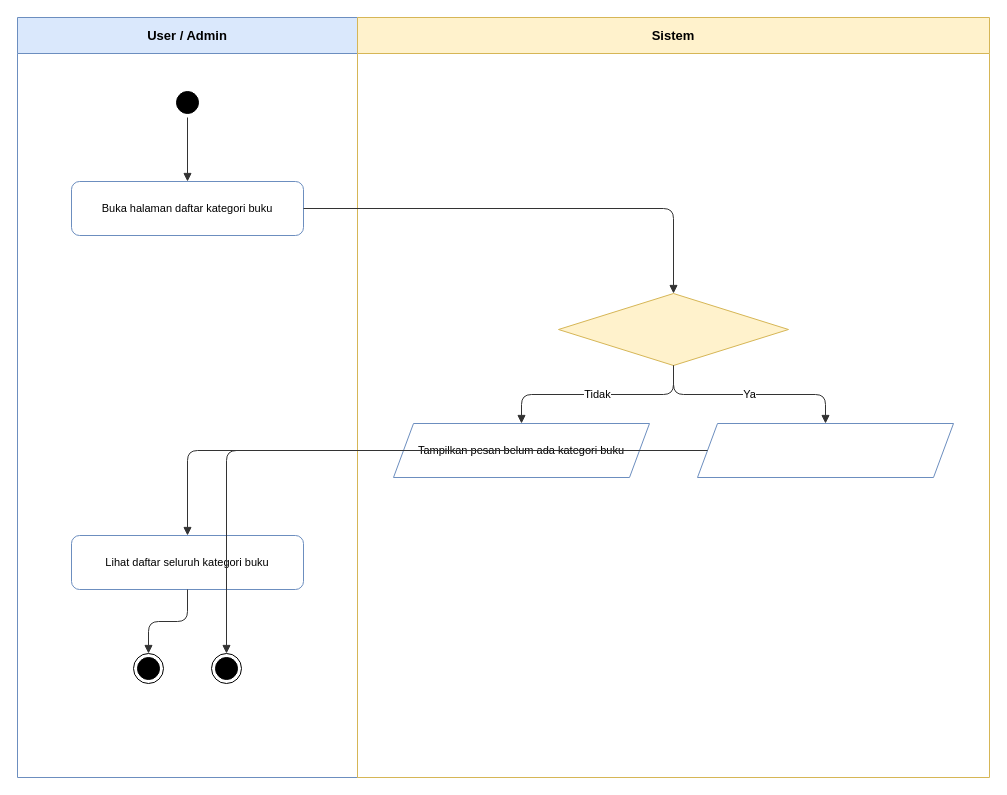
The diagram is 1007 pixels wide and 795 high, and some of its shapes have lost their labels. Each missing label, with the centre of its shape:
"Apakah data kategori buku tersedia?" belongs at pixel 673 329.
"Tampilkan seluruh daftar kategori buku" belongs at pixel 825 450.
